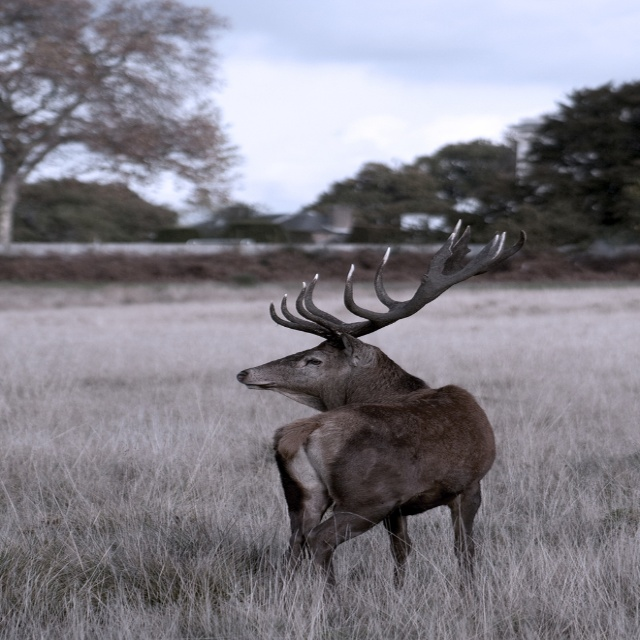Deer: (236, 218, 526, 592)
